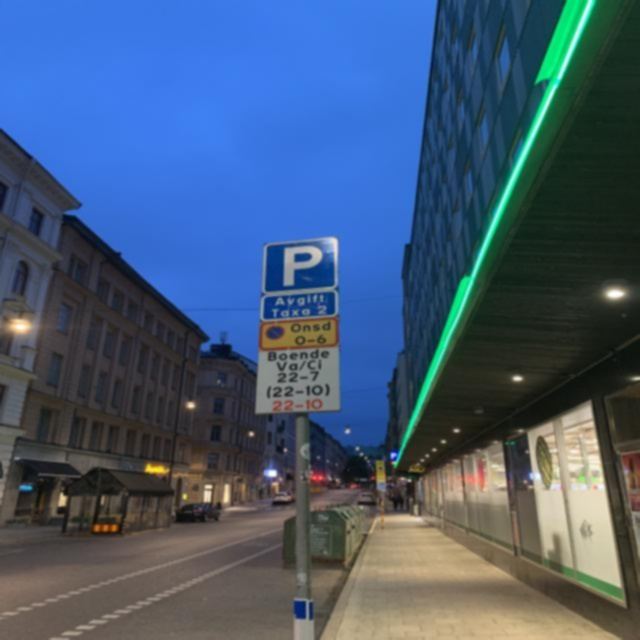P-skylt: (261, 236, 338, 294)
